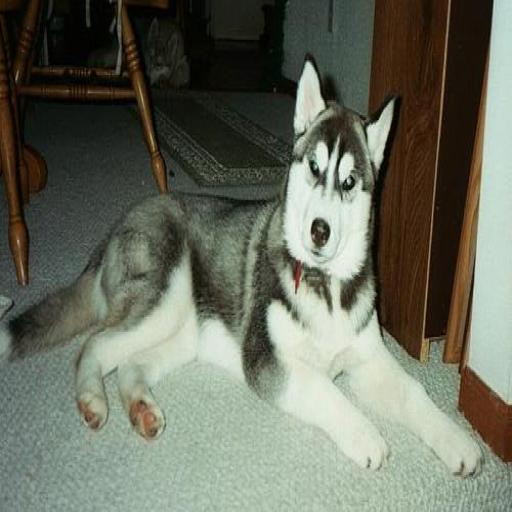dog_face: (288, 58, 393, 261)
